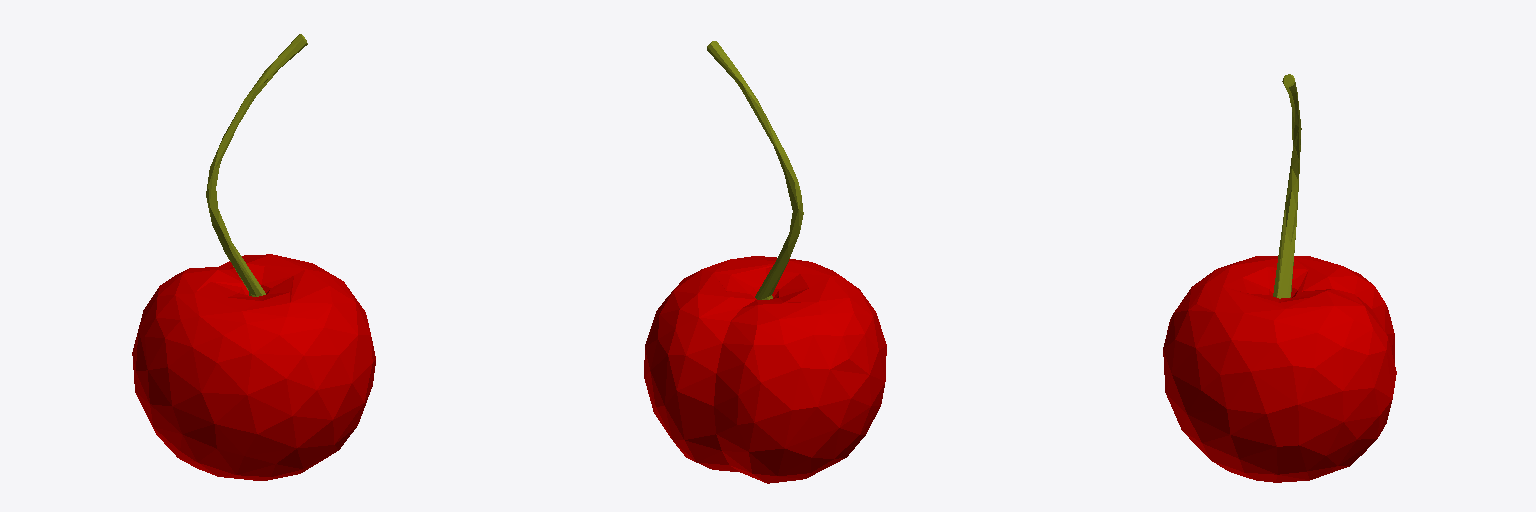
File: Cherry.obj
The picture shows the model from 3 angles: view 1: azimuth 30°, elevation 25°; view 2: azimuth 150°, elevation 25°; view 3: azimuth 270°, elevation 25°; orthographic projection.
Visible parts, largest first — view 1: mi.004, heta.003; view 2: mi.004, heta.003; view 3: mi.004, heta.003.
Boxes of the visible parts, box(x1,y1,x2,y2) form: mi.004: box(132, 254, 375, 480); heta.003: box(206, 34, 307, 296); mi.004: box(644, 256, 886, 483); heta.003: box(707, 41, 803, 299); mi.004: box(1163, 256, 1396, 482); heta.003: box(1273, 74, 1301, 298).
Bounding box in the file's own units: 0.7892 × 1.48 × 0.761.